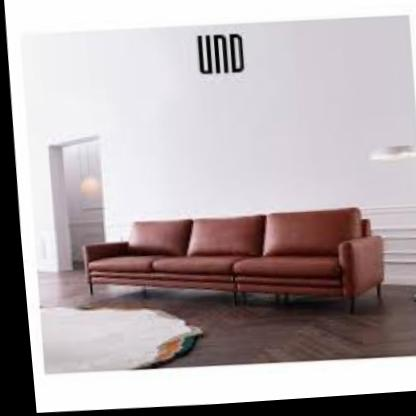Sofa: (48, 187, 405, 334)
